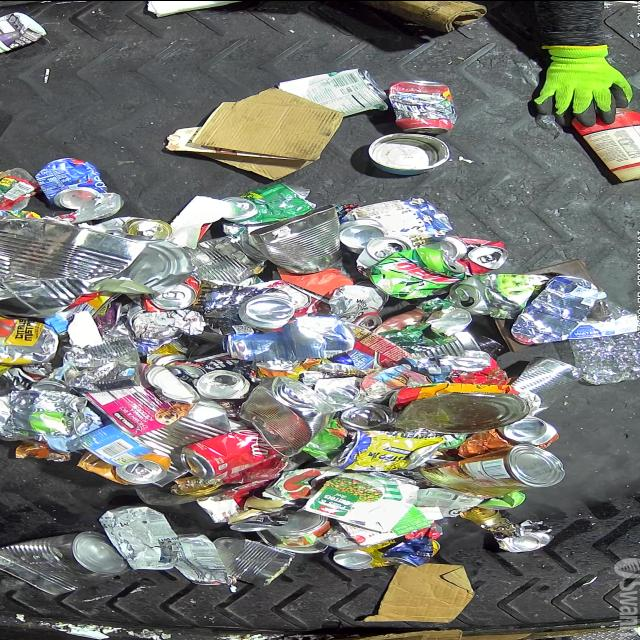can: (0, 214, 150, 318), (80, 362, 200, 436), (0, 529, 134, 594), (420, 443, 566, 498), (236, 374, 332, 456), (248, 204, 344, 274), (338, 196, 453, 253), (276, 67, 388, 117), (368, 246, 466, 298), (178, 426, 272, 479), (328, 429, 442, 471), (61, 334, 143, 392), (458, 414, 560, 458), (182, 233, 268, 284), (35, 156, 111, 210), (214, 534, 292, 586), (388, 79, 458, 133), (222, 182, 316, 222), (10, 389, 90, 436), (366, 131, 450, 175), (76, 422, 156, 467), (338, 536, 440, 570), (76, 449, 172, 485), (446, 273, 524, 317), (173, 532, 236, 585), (429, 234, 510, 274), (512, 356, 584, 393), (266, 508, 330, 546), (356, 237, 414, 277), (238, 292, 296, 329), (494, 518, 556, 552), (94, 215, 174, 240), (147, 274, 201, 310), (196, 369, 260, 399), (230, 504, 298, 532), (334, 548, 380, 570), (457, 508, 503, 530), (166, 362, 210, 384)
plastic_bottle: (568, 290, 640, 384)
